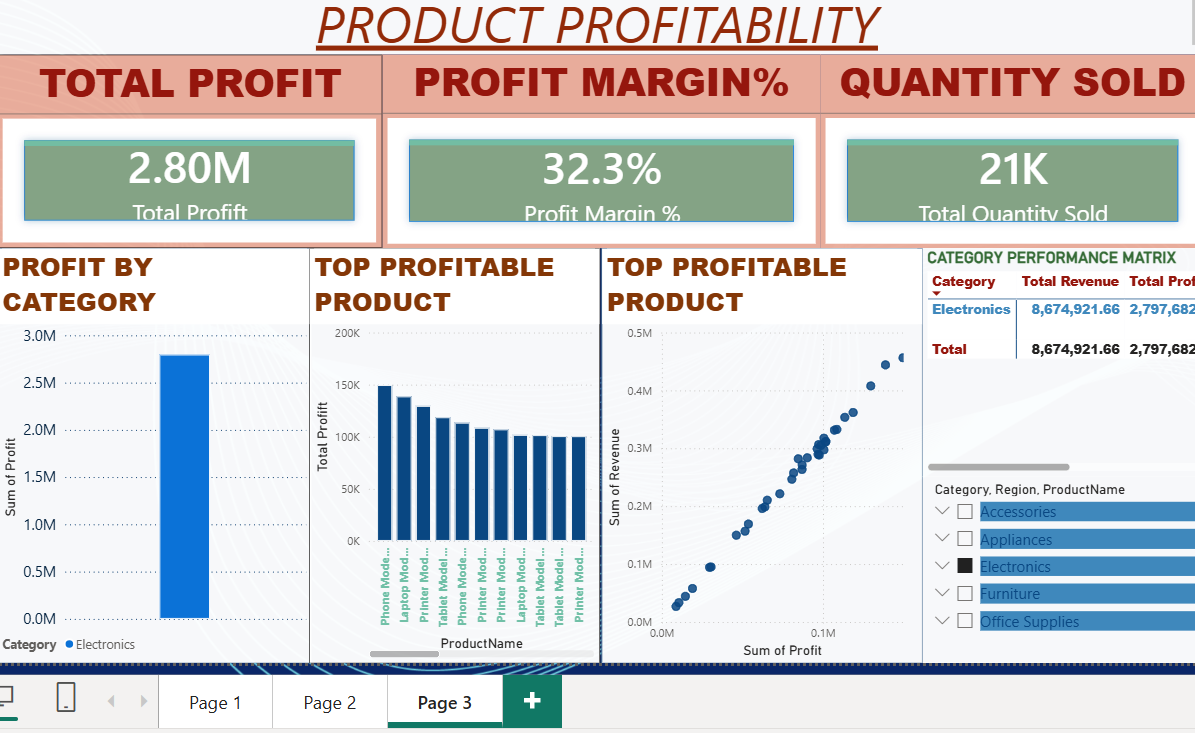

This screenshot's page, from the dashboard's own definition file:
{"tool":"powerbi","page":{"name":"PRODUCT PROFITABILITY","canvas":[1280,720],"ordinal":2},"visuals":[{"type":"cardVisual","title":"TOTAL PROFIT","fields":{"Data":["Customer_Data.Total Profift","Customer_Data.Total Profift"]},"box":[0,74.8,408.8,205.2],"z":0},{"type":"textbox","box":[0,0,1280.4,74.8],"z":1000},{"type":"cardVisual","title":"PROFIT MARGIN%","fields":{"Data":["Sales_Data_20000_Rows.Profit Margin %"]},"box":[408.8,74.8,464.5,205.2],"z":2000},{"type":"cardVisual","title":"QUANTITY SOLD","fields":{"Data":["Sales_Data_20000_Rows.Total Quantity Sold"]},"box":[873.2,74.8,407.2,205.2],"z":3000},{"type":"columnChart","title":"PROFIT BY CATEGORY","fields":{"Y":["Sum(Sales_Data_20000_Rows.Profit)"],"Series":["Product_Data.Category"]},"box":[0,279.9,334,440.6],"z":4000},{"type":"columnChart","title":"TOP PROFITABLE PRODUCT","fields":{"Category":["Product_Data.ProductName"],"Y":["Customer_Data.Total Profift"]},"box":[334,280,310,440],"z":5000},{"type":"scatterChart","title":"REVENUE VS PROFIT","fields":{"Category":["Product_Data.ProductName"],"X":["Sum(Sales_Data_20000_Rows.Profit)"],"Y":["Sum(Sales_Data_20000_Rows.Revenue)"]},"box":[638,280,340,440],"z":6000},{"type":"pivotTable","title":"CATEGORY PERFORMANCE MATRIX","fields":{"Rows":["Product_Data.Category"],"Values":["Customer_Data.Total Revenue","Customer_Data.Total Profift","Sales_Data_20000_Rows.Total Quantity Sold"]},"box":[978,280,298,242],"z":7000},{"type":"slicer","fields":{"Values":["Product_Data.Category","Sales_Data_20000_Rows.Region","Product_Data.ProductName"]},"box":[978,522,298,198],"z":8000}]}

Visuals, with their boxes on the page's 1280x720 design canvas (x1, y1, x2, y2). These are canvas units, not pixel positions in the 1195x733 screenshot, which may show the page scaled, cropped or inside an application window:
"TOTAL PROFIT" cardVisual: x1=0, y1=75, x2=409, y2=280
textbox: x1=0, y1=0, x2=1280, y2=75
"PROFIT MARGIN%" cardVisual: x1=409, y1=75, x2=873, y2=280
"QUANTITY SOLD" cardVisual: x1=873, y1=75, x2=1280, y2=280
"PROFIT BY CATEGORY" columnChart: x1=0, y1=280, x2=334, y2=720
"TOP PROFITABLE PRODUCT" columnChart: x1=334, y1=280, x2=644, y2=720
"REVENUE VS PROFIT" scatterChart: x1=638, y1=280, x2=978, y2=720
"CATEGORY PERFORMANCE MATRIX" pivotTable: x1=978, y1=280, x2=1276, y2=522
slicer - Product_Data.Category x Sales_Data_20000_Rows.Region: x1=978, y1=522, x2=1276, y2=720
